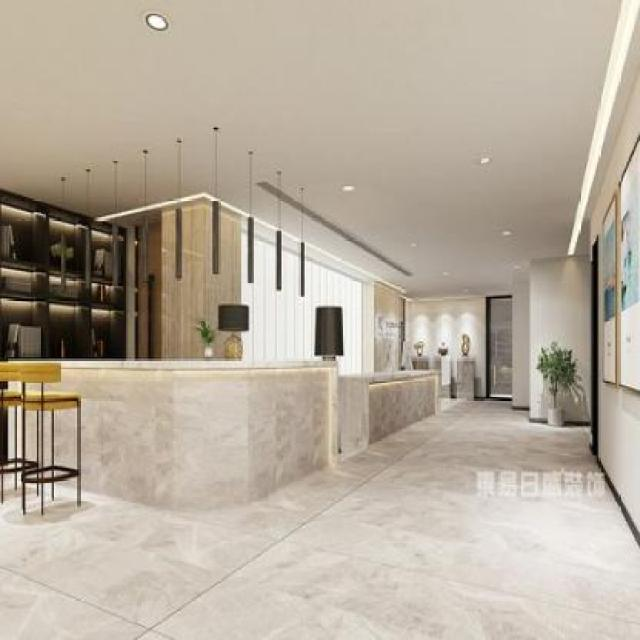frontdesk: (0, 349, 443, 500)
